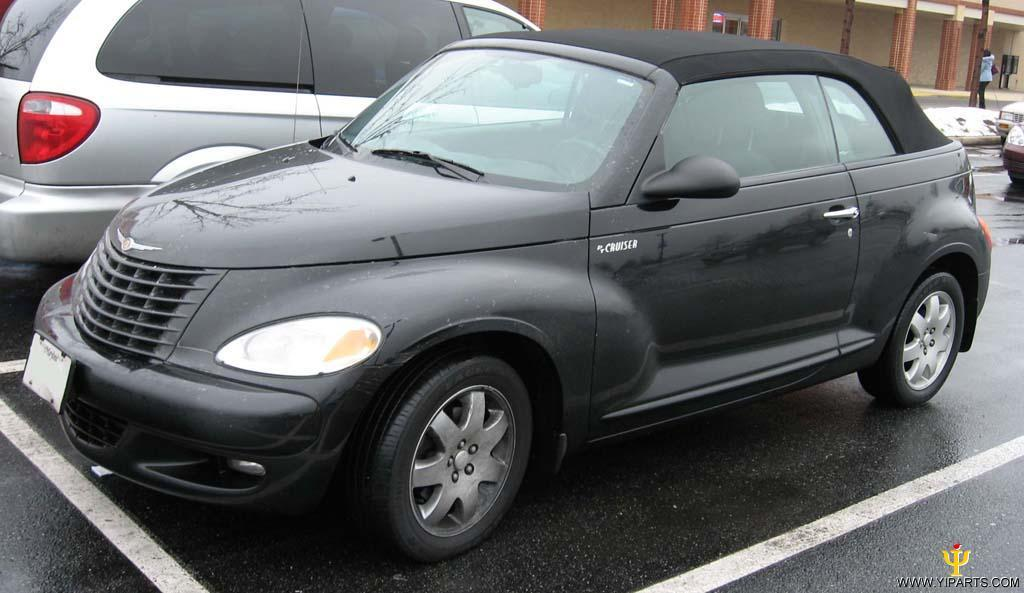Chrysler: (106, 224, 166, 263)
